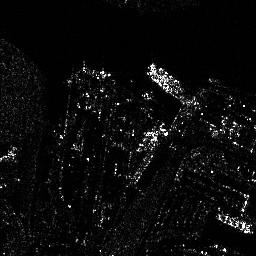ship: (145, 63, 185, 93), (213, 210, 254, 235)
